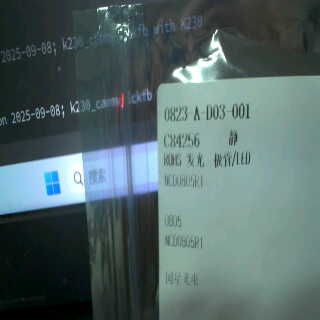LED: (184, 151, 254, 169)
